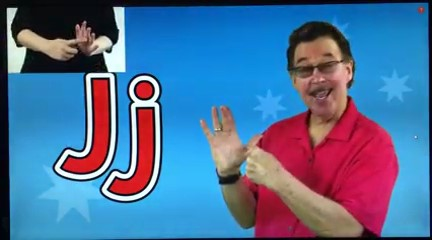J: (197, 101, 278, 190), (44, 21, 101, 64)
